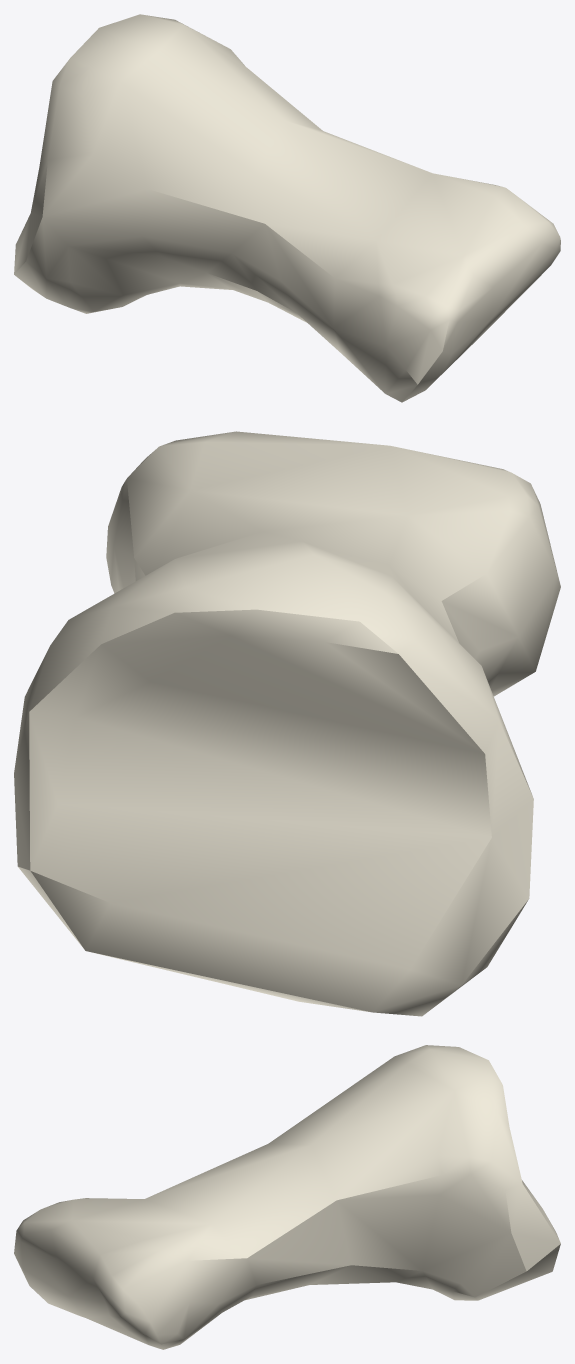
The model's file is fma32644_fj6403.glb.
The picture shows the model from 3 angles, top to bottom: view 1: azimuth 30°, elevation 25°; view 2: azimuth 150°, elevation 25°; view 3: azimuth 270°, elevation 25°; orthographic projection. The views are drawn at different scales.
Parts seen in each view (by area): view 1: FMA32644_FJ6403; view 2: FMA32644_FJ6403; view 3: FMA32644_FJ6403.
Part boxes in pixels (x1,y1,x2,y2): FMA32644_FJ6403: [14, 14, 560, 402]; FMA32644_FJ6403: [14, 431, 560, 1016]; FMA32644_FJ6403: [14, 1045, 560, 1349].
Size of the model in its own units: 0.0129 by 0.00805 by 0.0168.
